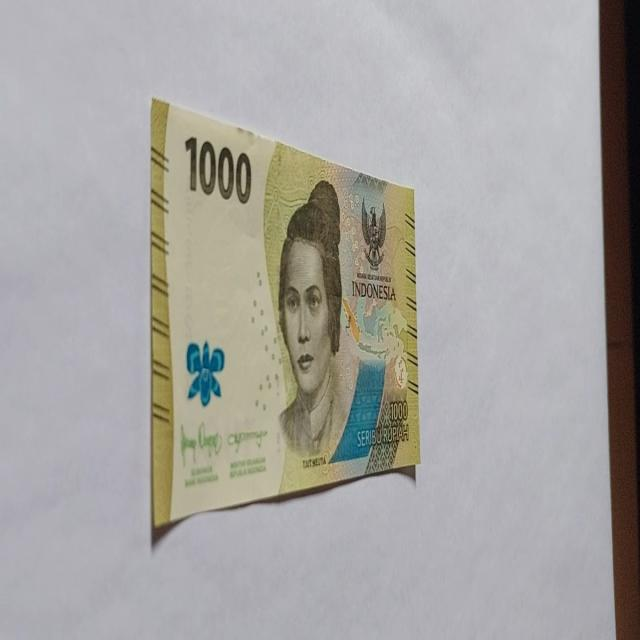seribu rupiah kertas: (150, 97, 420, 529)
